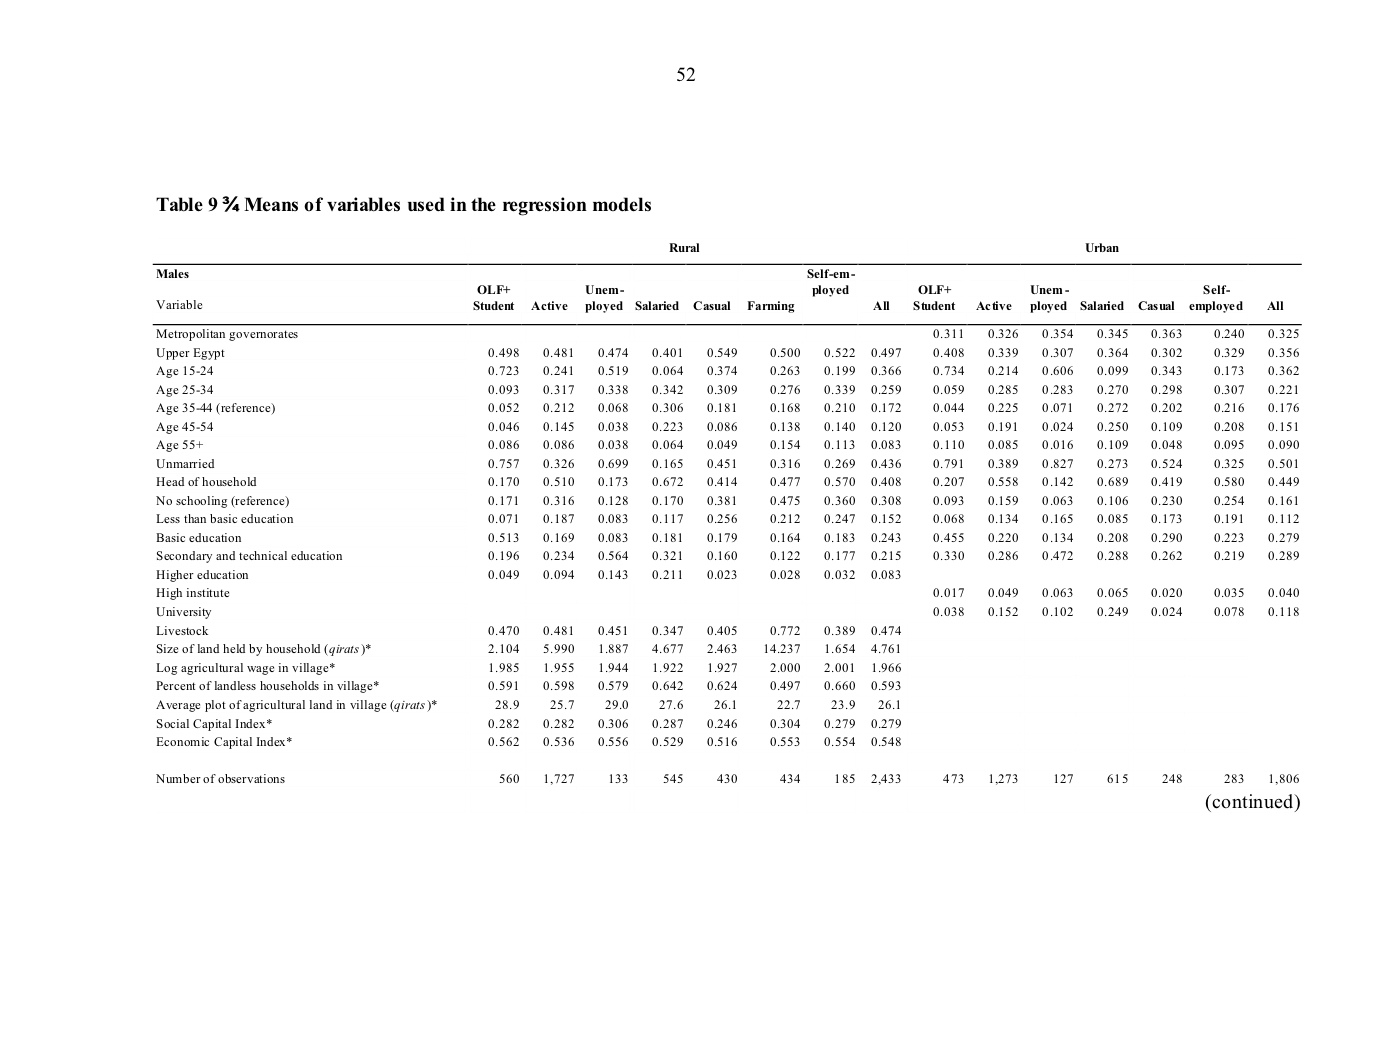Table: (152, 243, 1301, 783)
